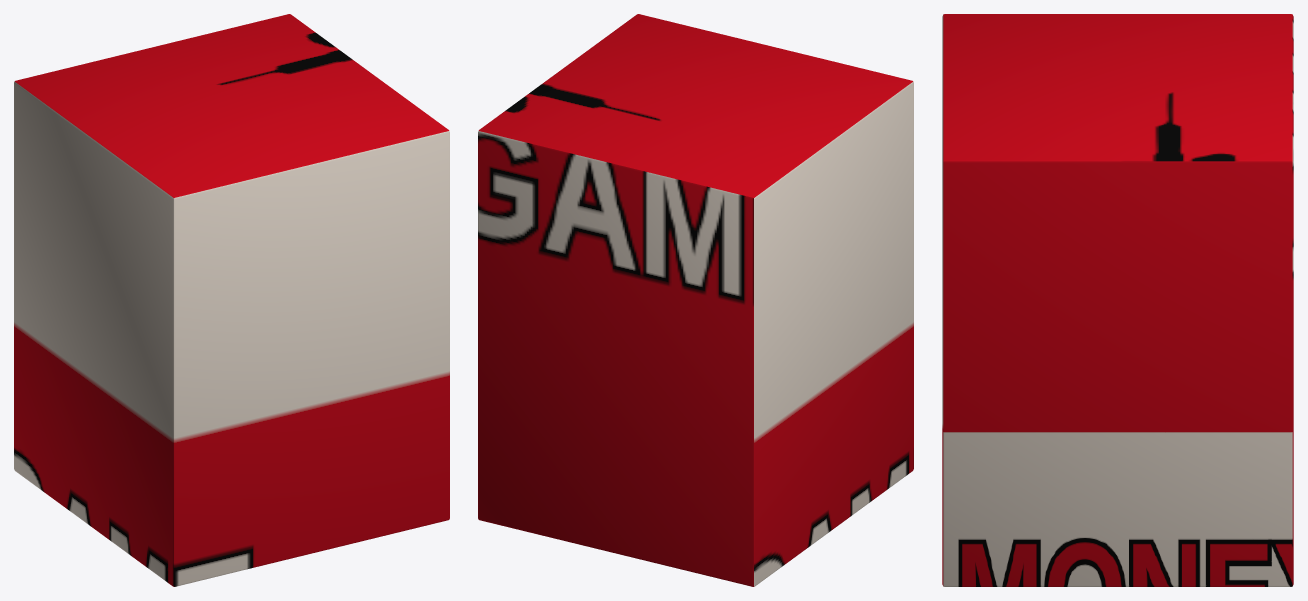
Rendered from SmallProduct04.fbx.
The picture shows the model from 3 angles, left to right: view 1: azimuth 30°, elevation 25°; view 2: azimuth 150°, elevation 25°; view 3: azimuth 270°, elevation 25°; orthographic projection. The views are drawn at different scales.
Parts seen in each view (by area): view 1: Small_Product_003; view 2: Small_Product_003; view 3: Small_Product_003.
Boxes of the visible parts, box(x1,y1,x2,y2) form: Small_Product_003: box(14, 14, 449, 586); Small_Product_003: box(478, 14, 913, 586); Small_Product_003: box(942, 14, 1293, 586).
Size of the model in its own units: 0.4967 by 0.6687 by 0.4981.
